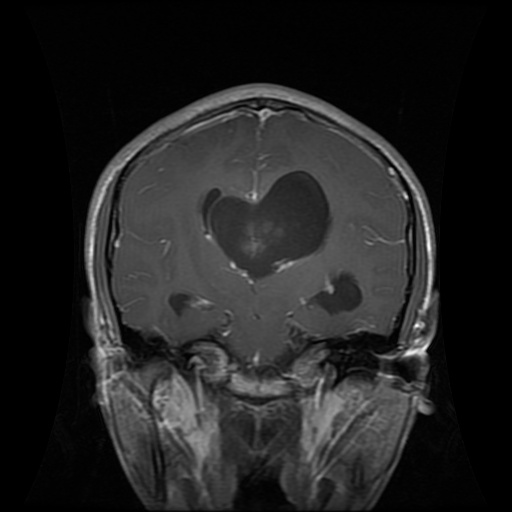glioma: (197, 168, 333, 283)
